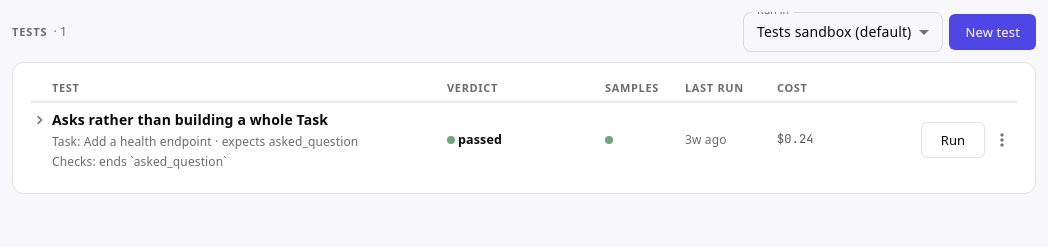
Test: TestsTabContent › history › shows the verdict, cost, duration and the item the agent acted on
What coordinates should you click on to do the following:
click the button with aria-label "Show history for Asks rather than building a whole Task"
I would click on:
 (190, 119)
Its box is [27, 103, 1021, 177].
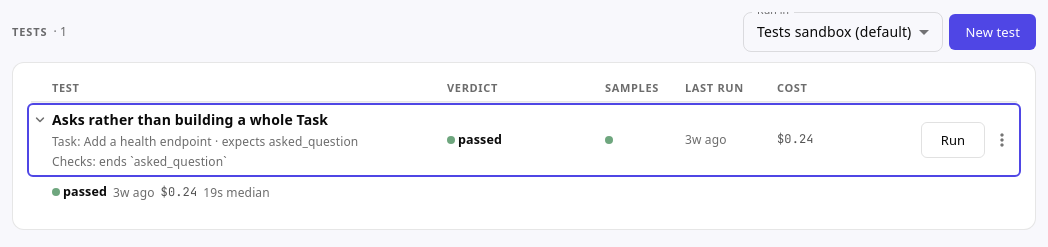
expect the 1st text "passed" is shown: met, box [458, 130, 502, 150]
expect the text "19s median" is shown: met, box [203, 183, 270, 202]
